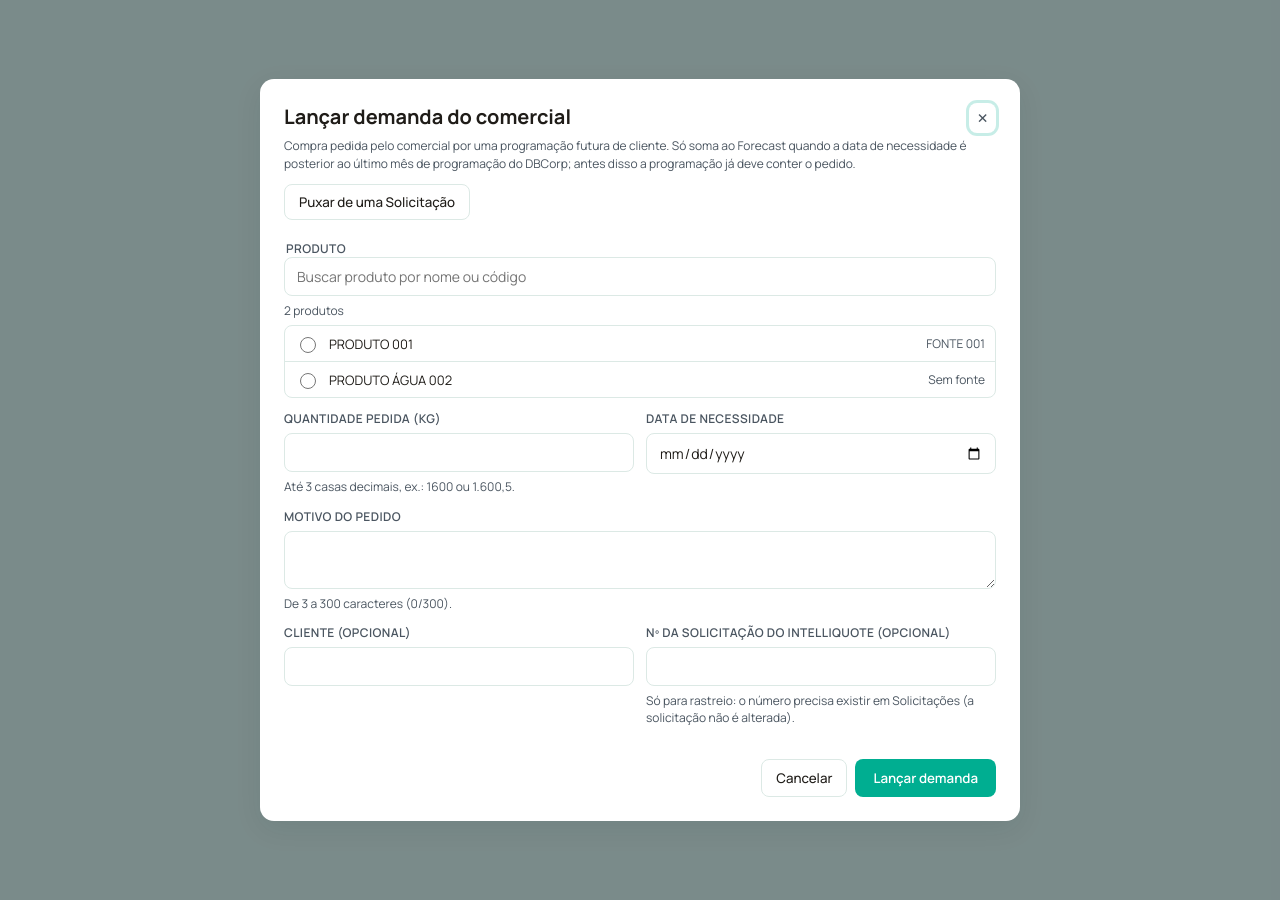
Scenario: ForecastDemandaComercialModal - lancar › data anterior a hoje e kg com 4 casas sao barrados no cliente
This screenshot has width=1280, height=900.
Expected: the text "2 produtos" is shown, [284,302,344,319]
Click the radio button labelled "PRODUTO 001 FONTE 001" at [308, 345], box [300,337,316,353]
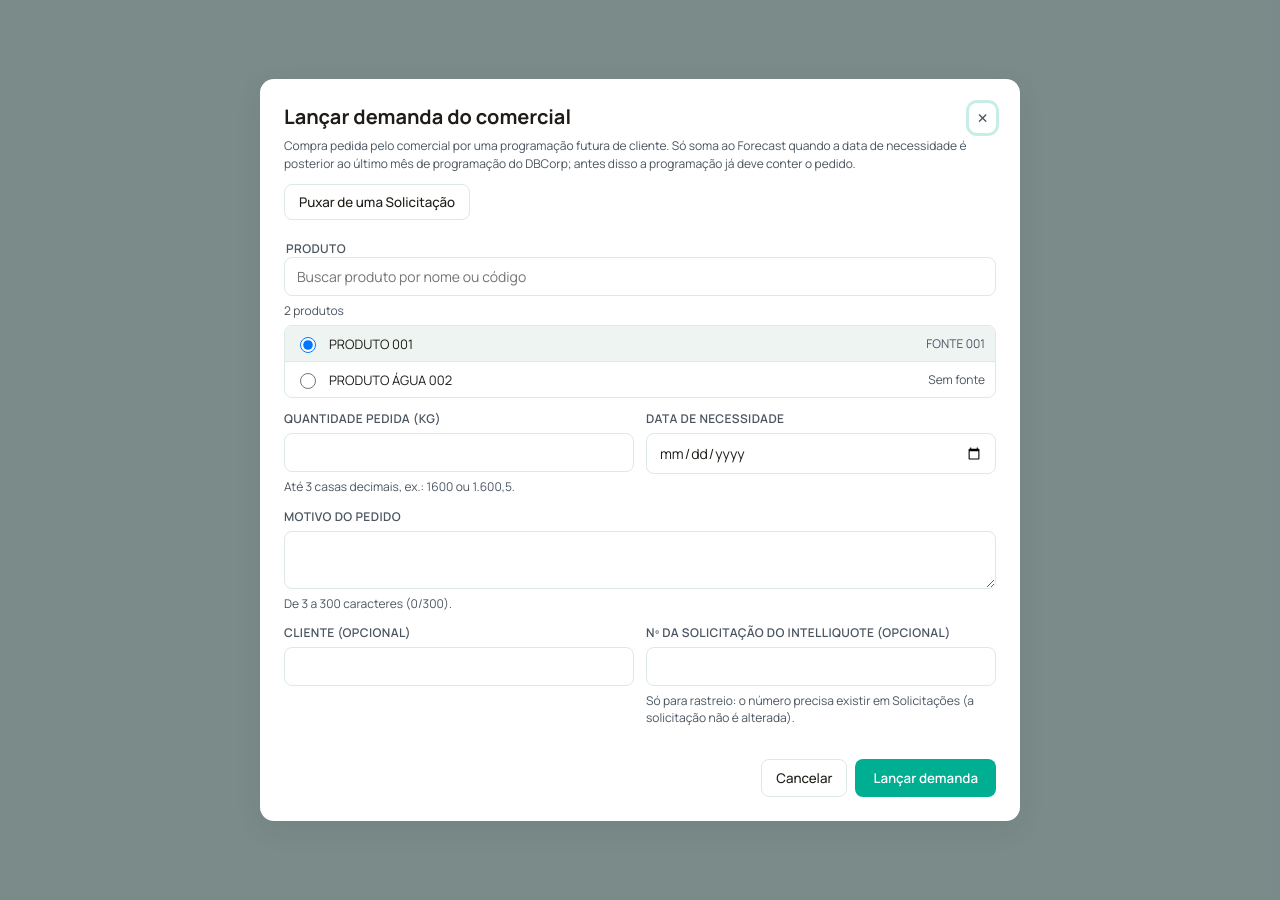
Type "1,2345" into the field labelled "Quantidade pedida (kg)" at [459, 453], box [284,433,634,472]
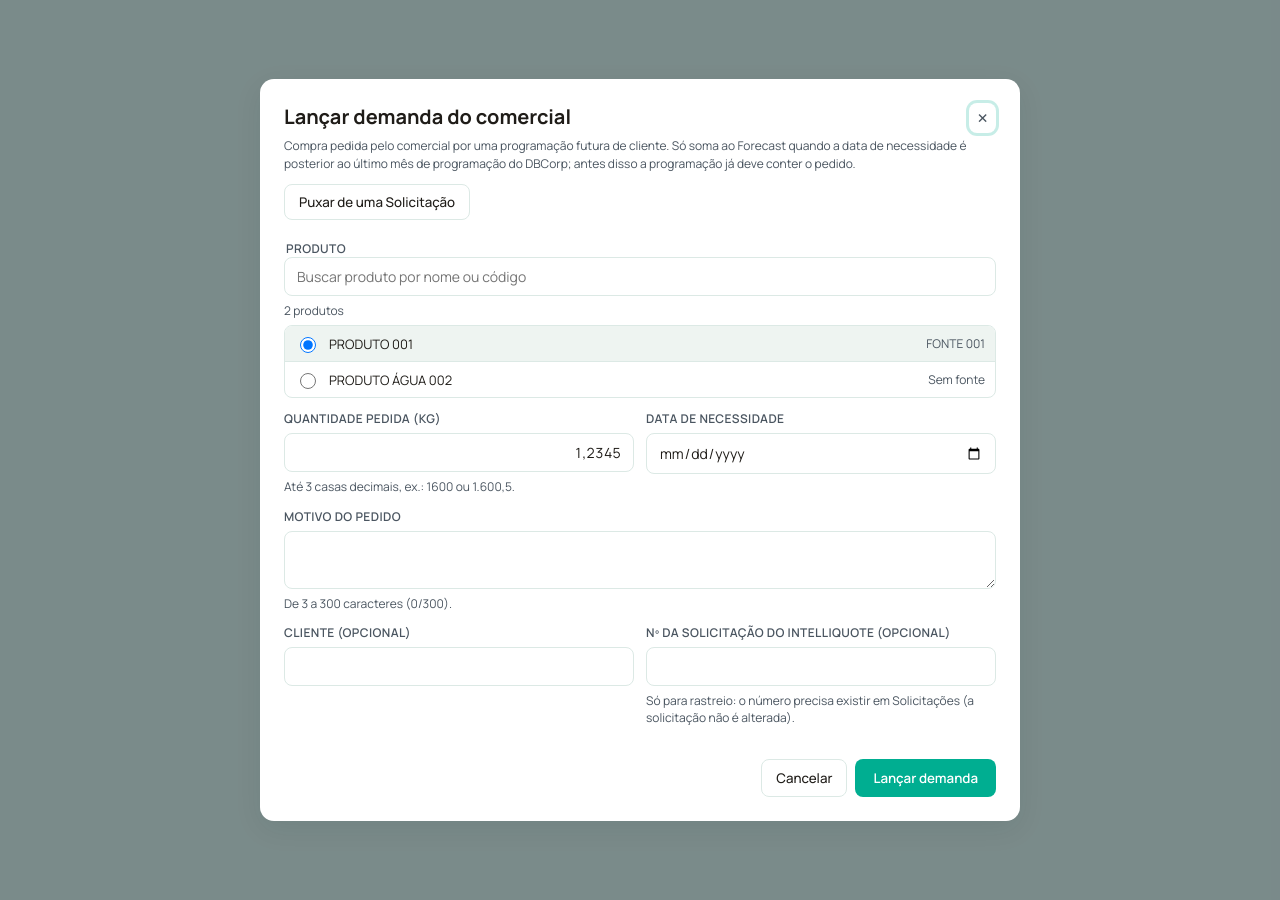
Type "2026-10-19" into the date field labelled "Data de necessidade" at [821, 454], box [646,433,996,474]
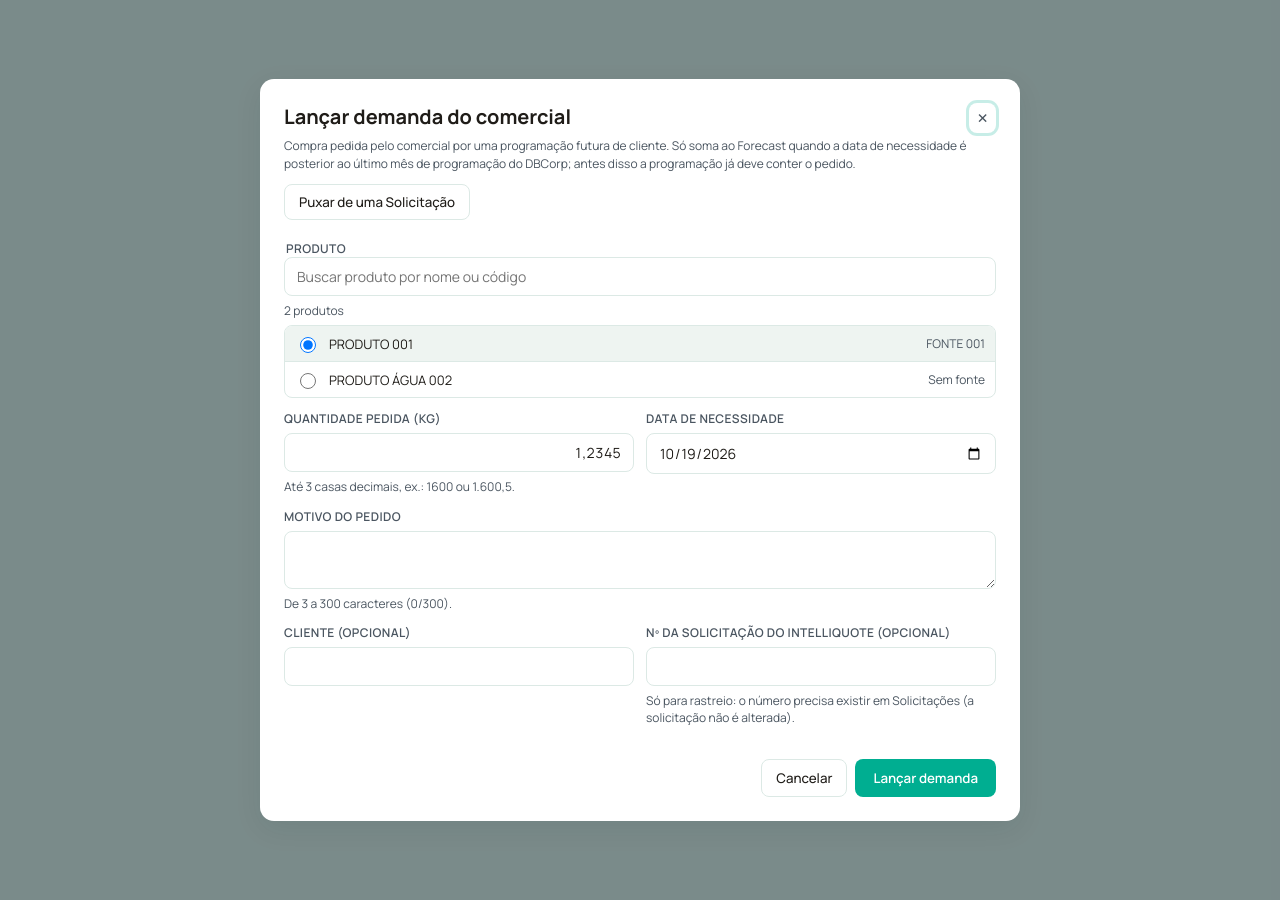
Type "MOTIVO SINTETICO" into the text box labelled "Motivo do pedido" at [640, 560], box [284,531,996,589]
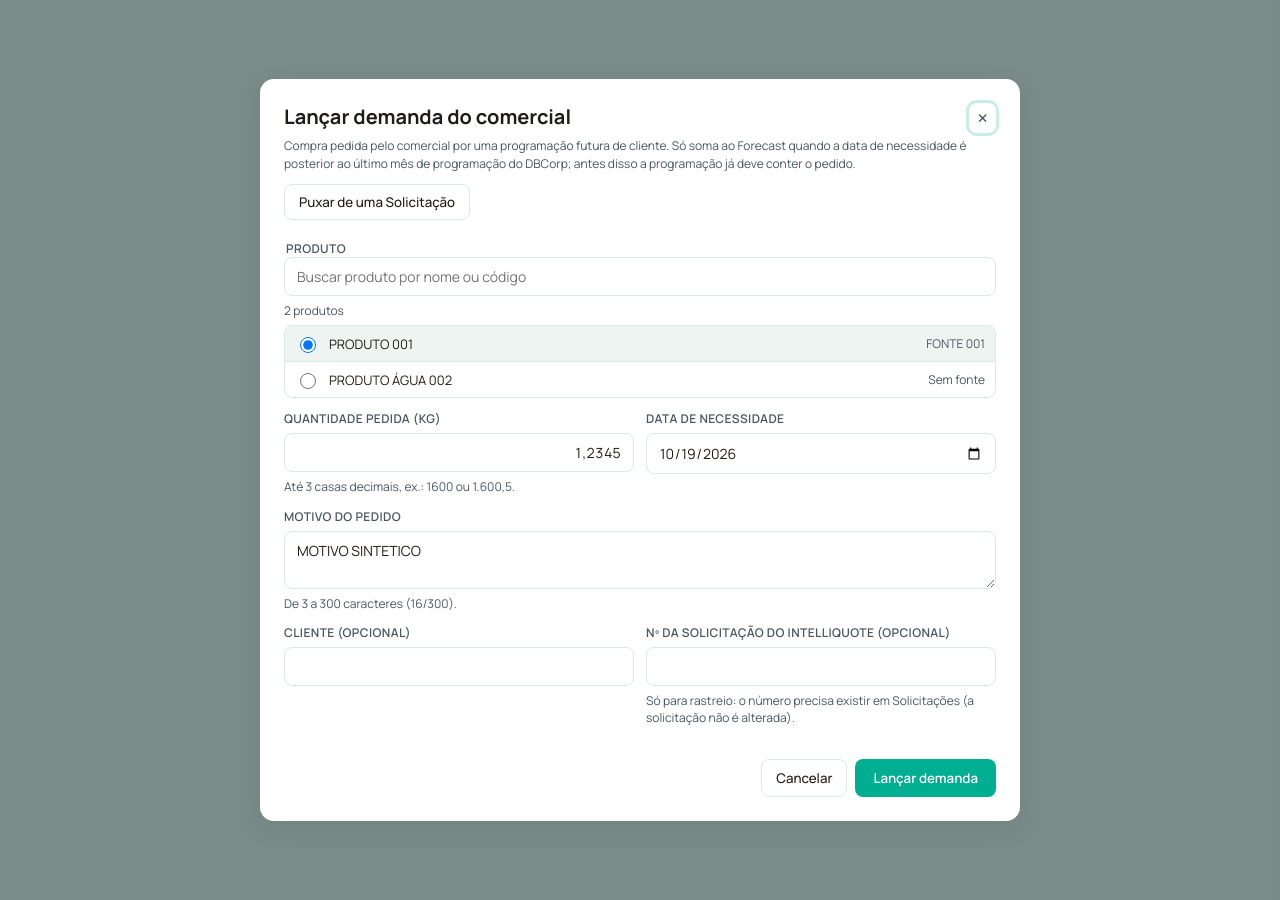
Click the button "Lançar demanda" at [926, 778], box [855,759,996,797]
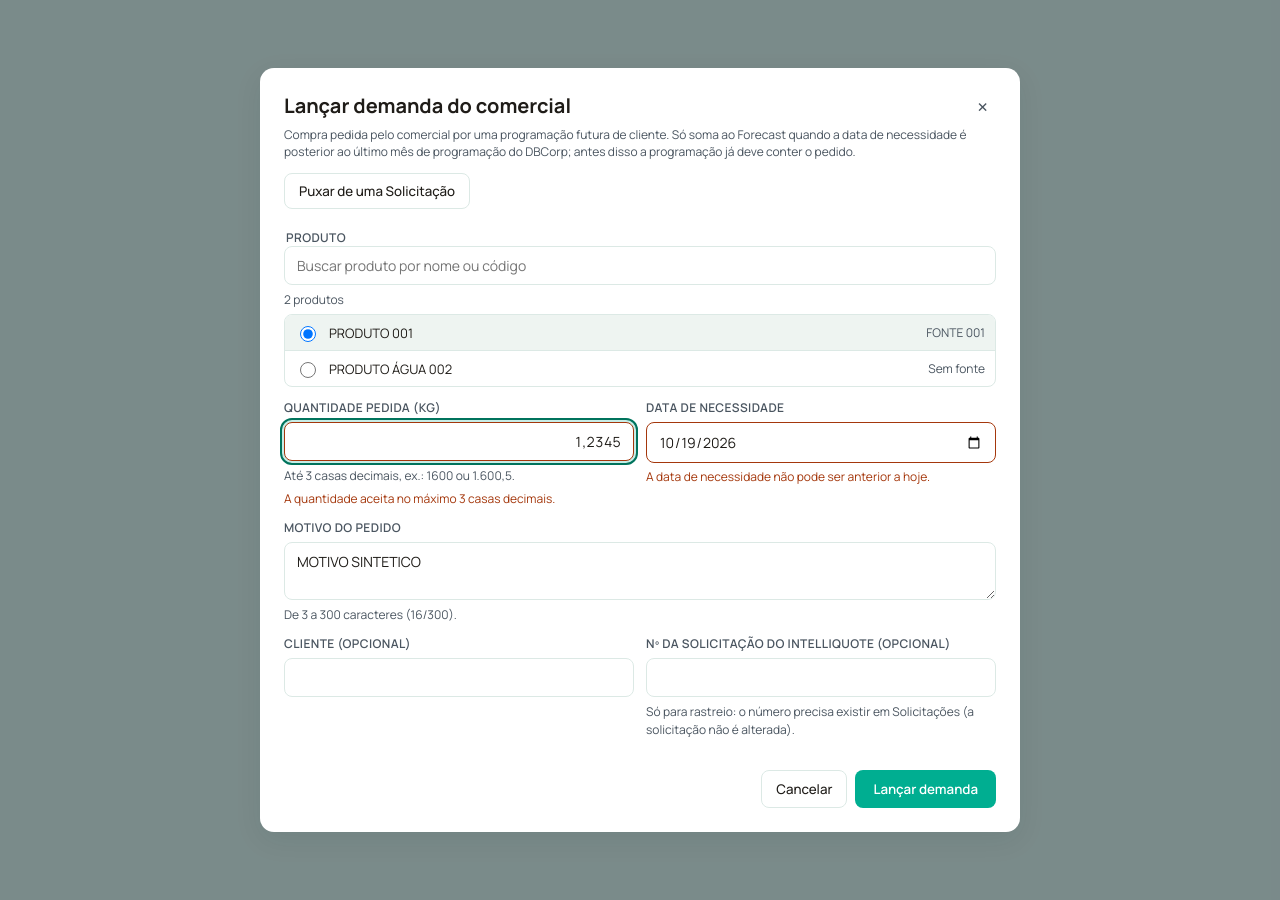
Expected: the text "A quantidade aceita no máximo 3 casas decimais." is shown, [284,490,555,507]
Expected: the text "A data de necessidade não pode ser anterior a hoje." is shown, [646,468,930,485]
